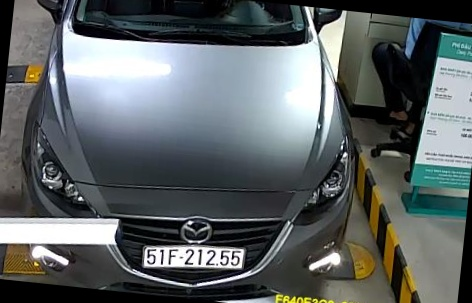plate: (138, 237, 252, 277)
